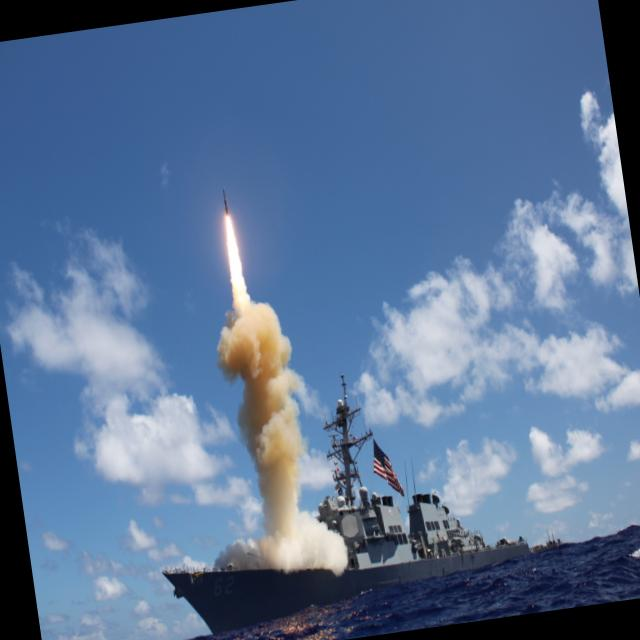rocket: (215, 187, 259, 350)
